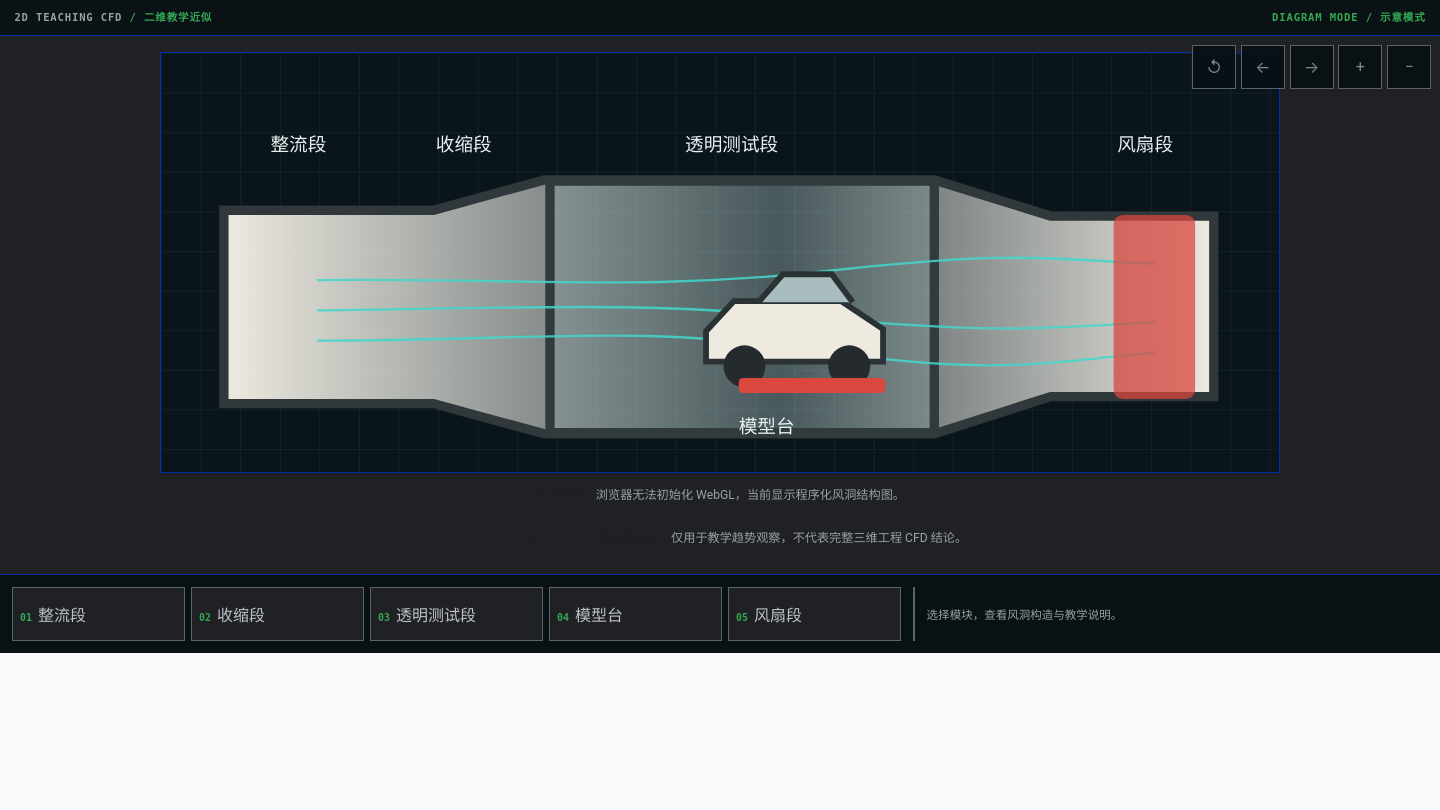
Test: exposes the five physical modules and records hotspot evidence
Expected: the button with aria-label "straightener" is shown, [12,587,185,641]
Expected: the button with aria-label "contraction" is shown, [191,587,364,641]
Click the button with aria-label "test-section": (456, 614) [370,587,543,641]
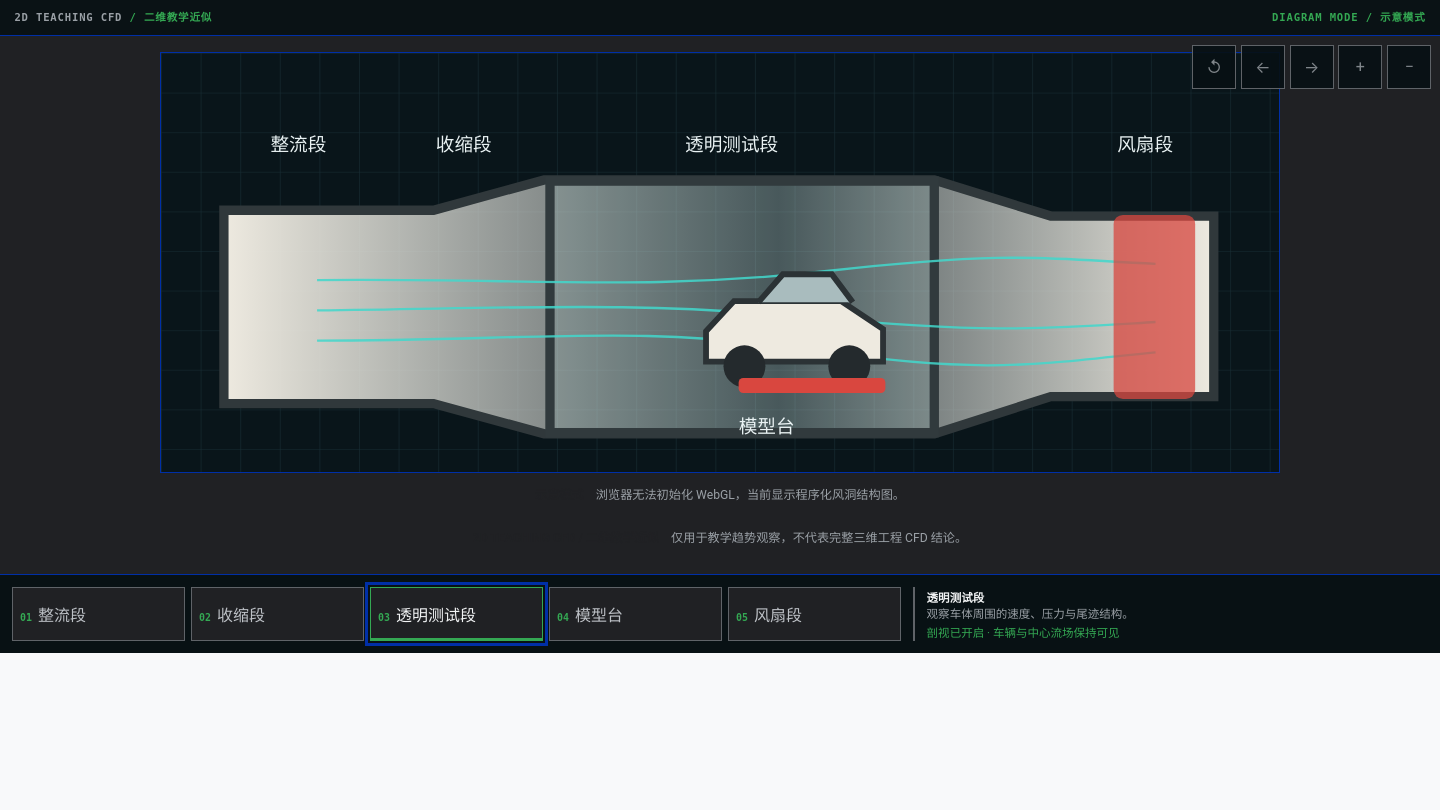
Expected: the text "剖视已开启 · 车辆与中心流场保持可见" is shown, [927,626,1120,640]
